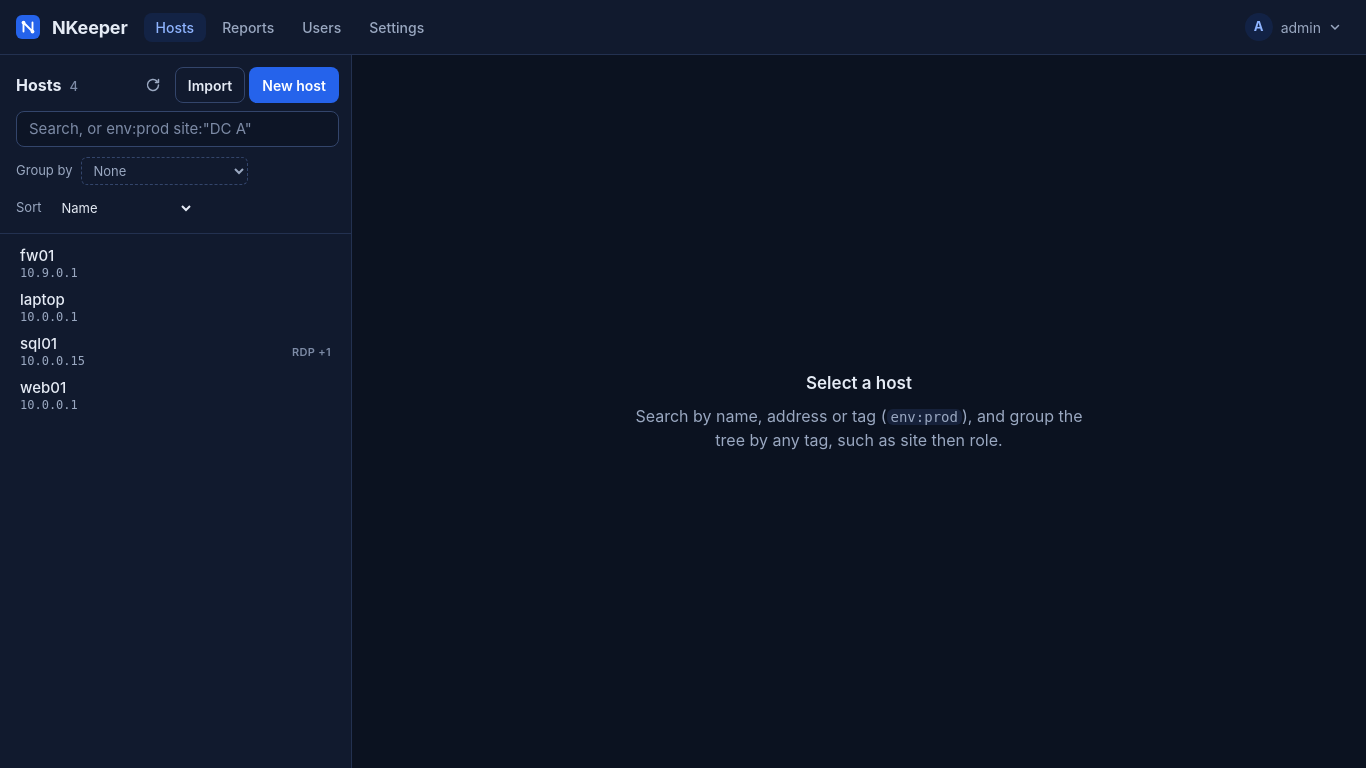
workspace › filters by free text and by name:value tag terms
This screenshot has width=1366, height=768.
In the search field named "Search hosts": (178, 129) x1=16 y1=111 x2=339 y2=147, type "site:dc"
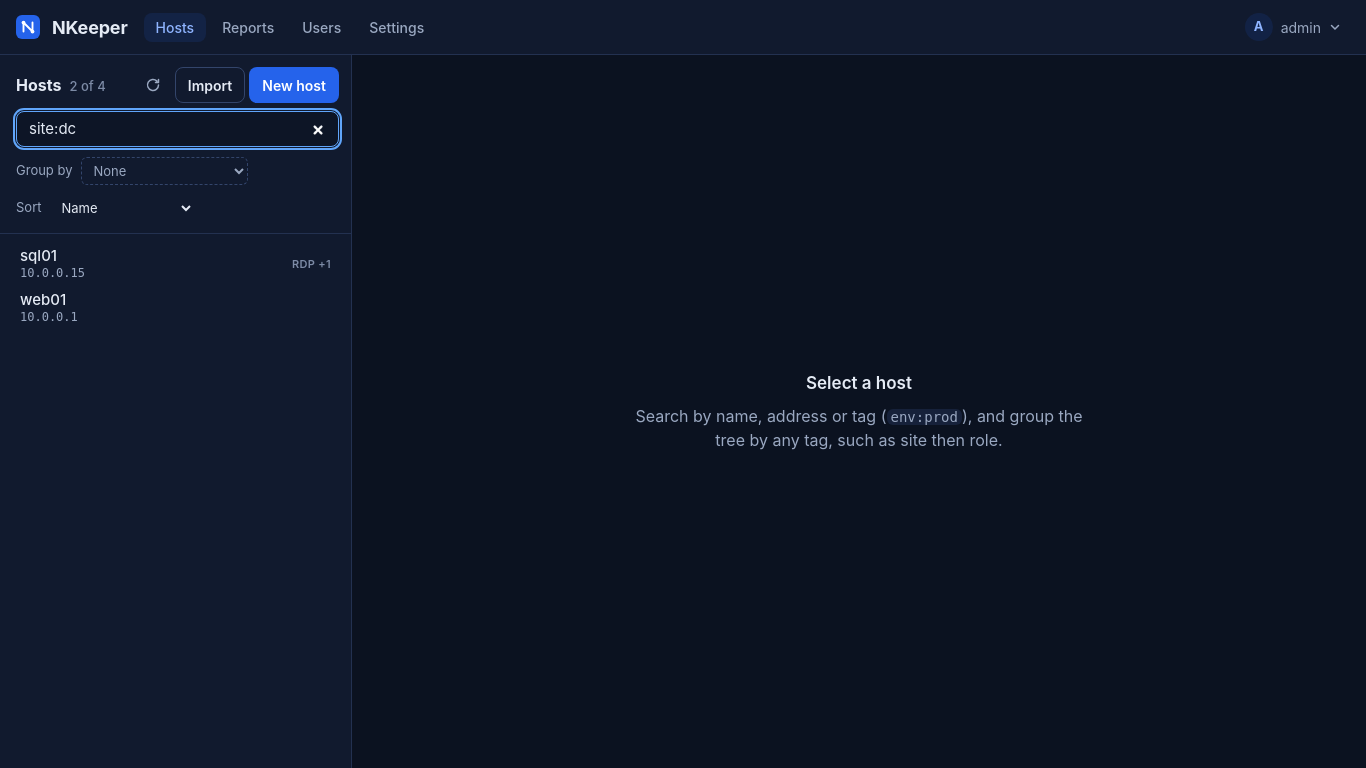
Replace the text in the search field named "Search hosts" with "10.9": (178, 129) x1=16 y1=111 x2=339 y2=147
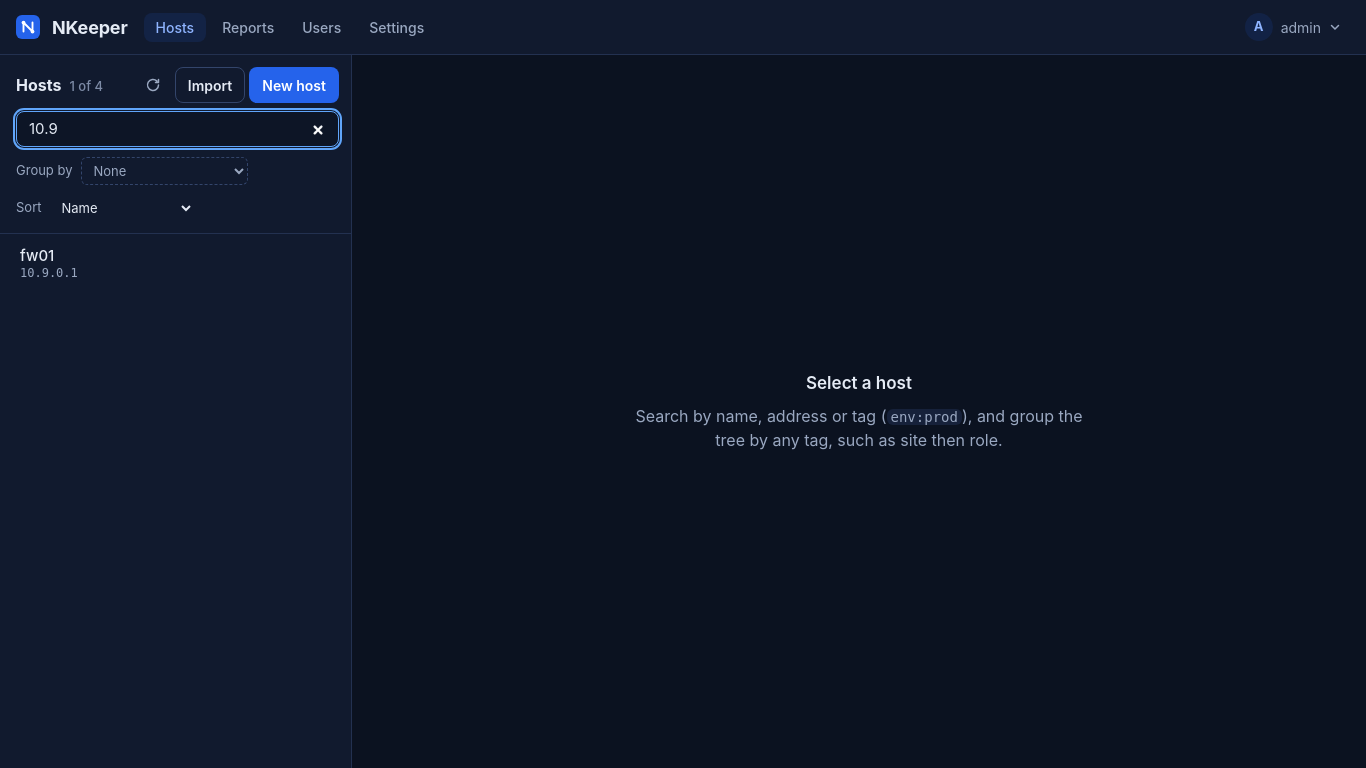
Check: the text "1 of 4" is shown, box x1=69 y1=77 x2=103 y2=96
